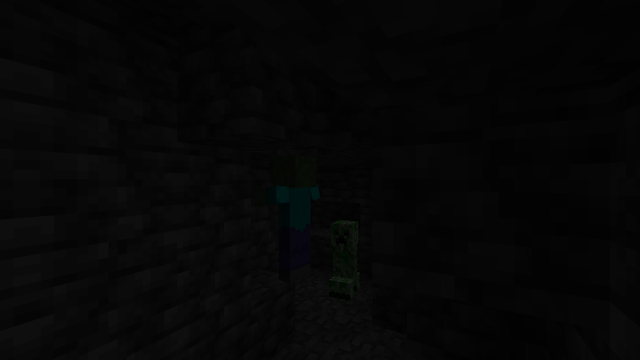creepers: (327, 216, 361, 299)
zombies: (269, 158, 319, 287)
